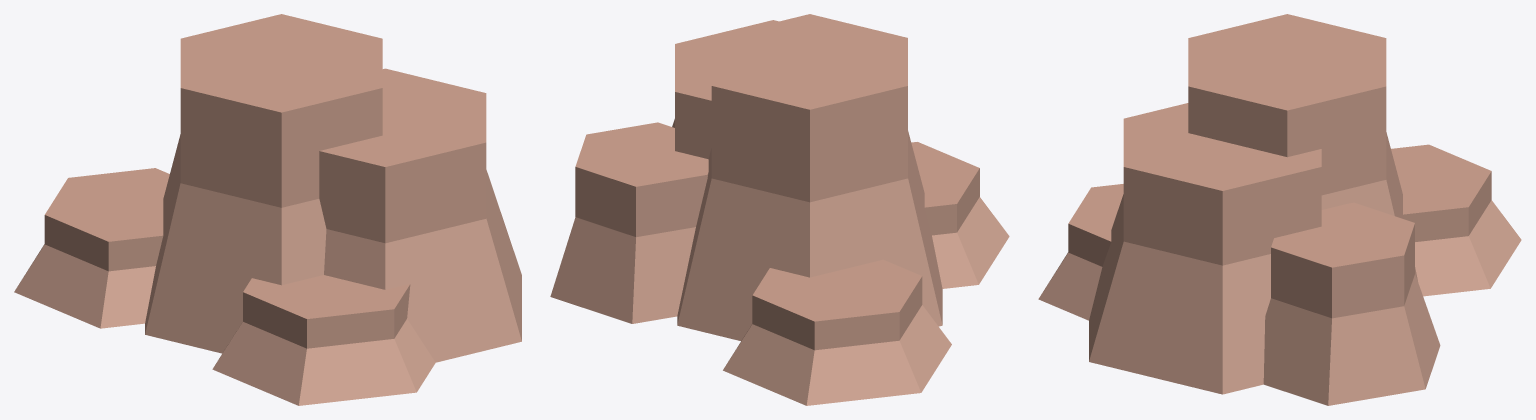
The model's file is rock_largeB.glb.
3 views of the same model, side by side, from view 1: azimuth 30°, elevation 25°; view 2: azimuth 150°, elevation 25°; view 3: azimuth 270°, elevation 25° (orthographic). The views are drawn at different scales.
Parts seen in each view (by area): view 1: rock_largeB; view 2: rock_largeB; view 3: rock_largeB.
Boxes of the visible parts, left/top/right/bottom form: rock_largeB: left=14, top=14, right=521, bottom=405; rock_largeB: left=550, top=14, right=1009, bottom=405; rock_largeB: left=1038, top=14, right=1521, bottom=405.
Size of the model in its own units: 0.9279 by 0.5 by 0.9393.
